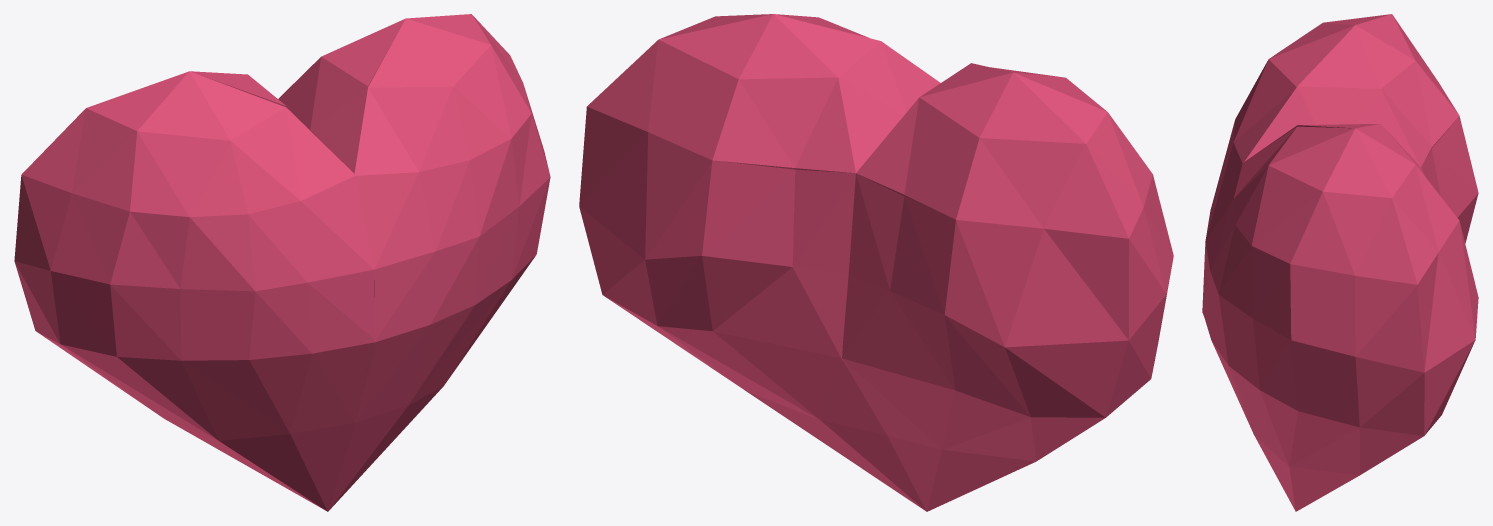
The model's file is heart.glb.
The picture shows the model from 3 angles, left to right: view 1: azimuth 30°, elevation 25°; view 2: azimuth 150°, elevation 25°; view 3: azimuth 270°, elevation 25°; orthographic projection. The views are drawn at different scales.
Parts seen in each view (by area): view 1: node-0; view 2: node-0; view 3: node-0.
Part boxes in pixels (bbox=[...]): node-0: bbox=[14, 14, 550, 511]; node-0: bbox=[579, 14, 1173, 511]; node-0: bbox=[1202, 14, 1478, 511].
Size of the model in its own units: 181 by 155 by 89.24.
